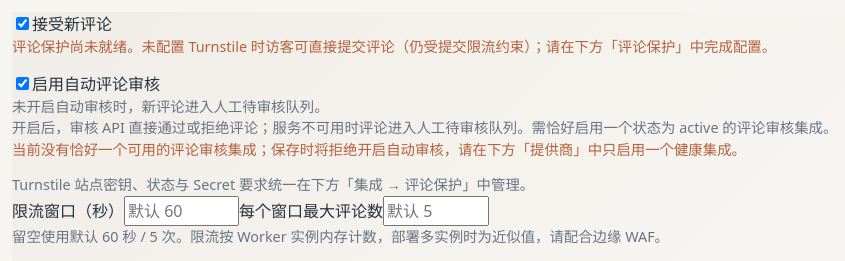
SettingsCommentForm › clears automatic moderation when comments are disabled
The image size is (845, 261).
Click the checkbox with test id "comment-enabled" at (22, 24), box [16,17,29,30]
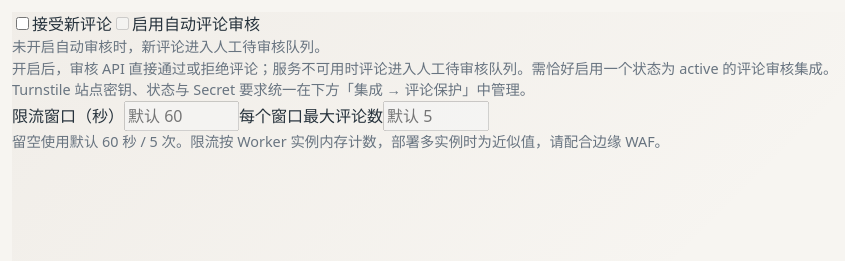
Expected: the checkbox with test id "comment-auto-moderation" is disabled, [116,17,129,30]
